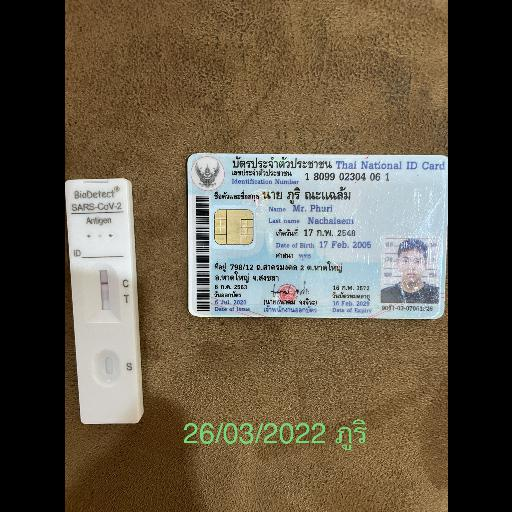Neg: (64, 178, 138, 422)
